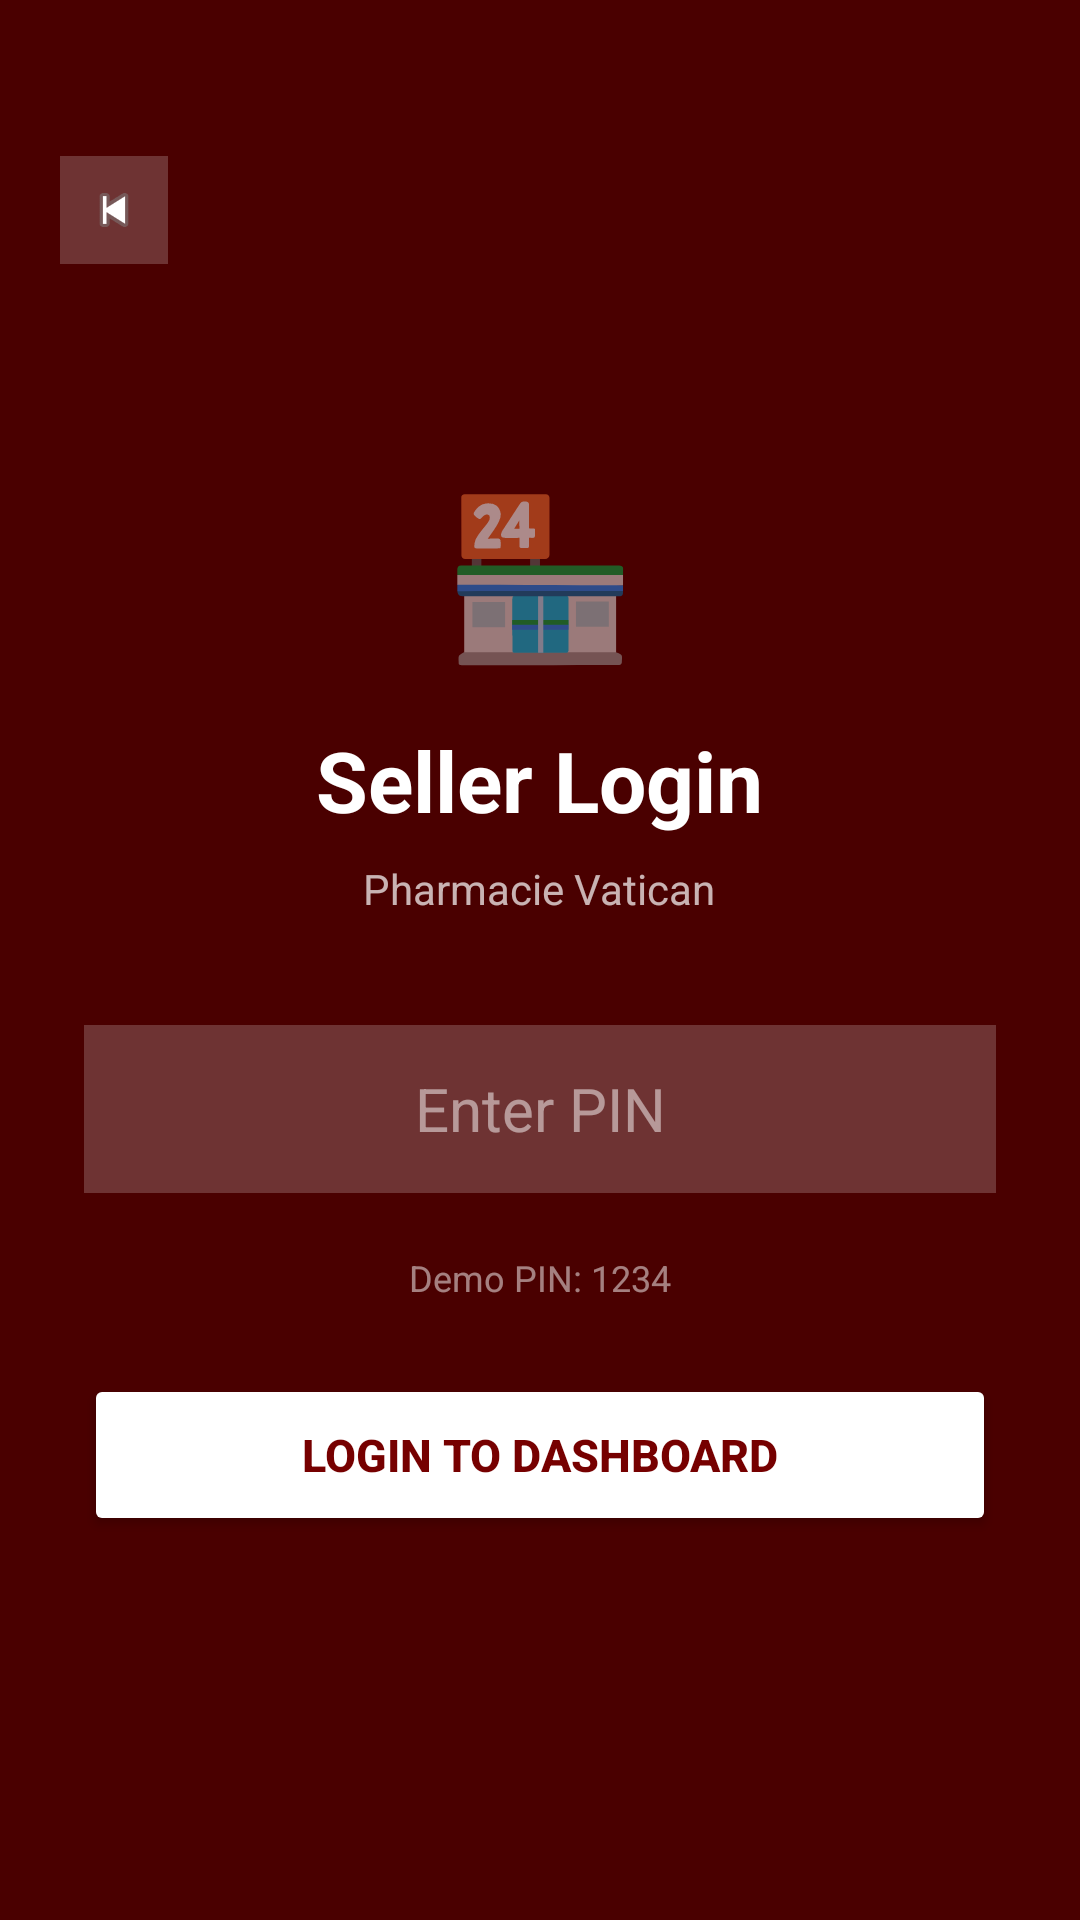

Icon bounding boxes for this 1080w x 1920h phone screenshot, format rect(x1, y1, x2, y2):
previous: rect(60, 156, 168, 264)
